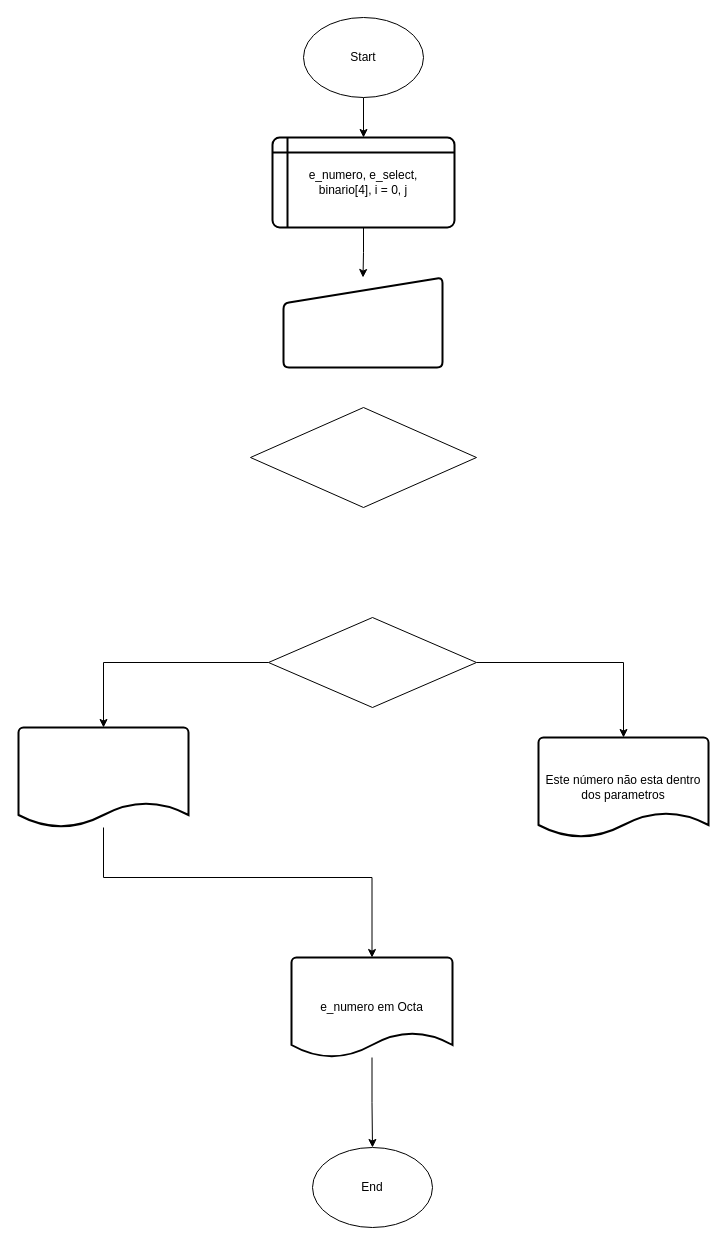
This 726x1245 diagram has some shape labels left out. The shapes that lost their labels are listed below. From the top down, each one's centre as x and y in pixels, then its label:
At (362,322): "e_select, e_numero".
At (372,662): "e_numero > 0 && e_numero < 15".
At (103,777): "Conversão por printf".
